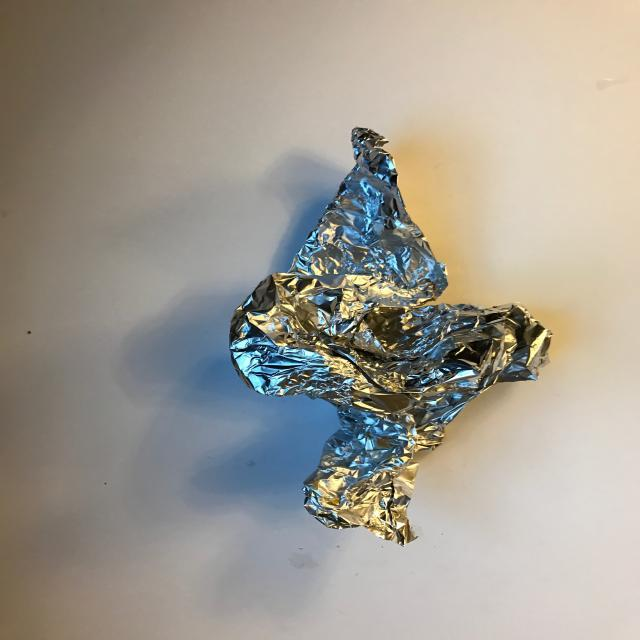metal: (225, 124, 554, 546)
